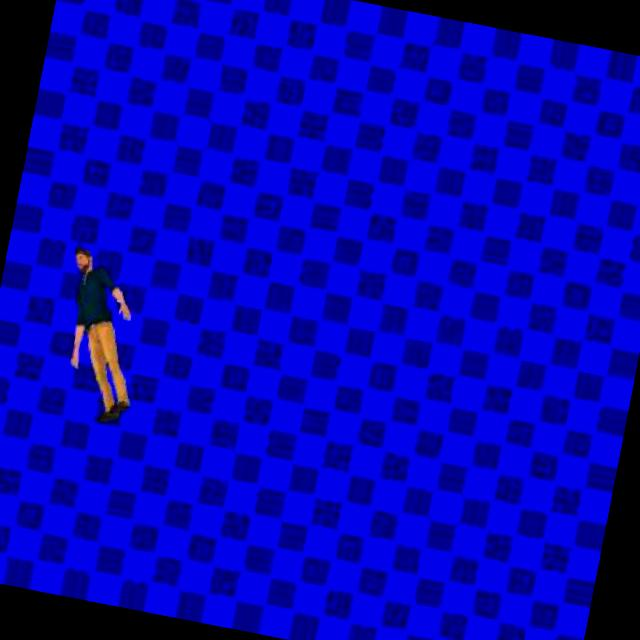Person: (41, 238, 163, 434)
